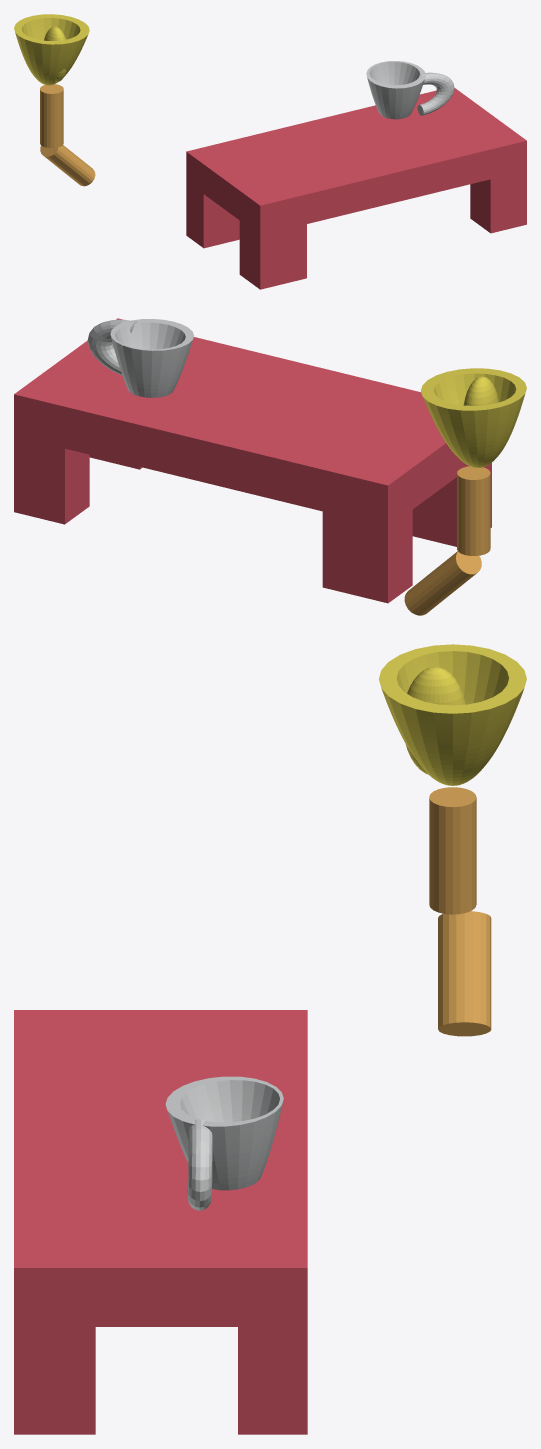
File: 3D shape cup and lamp.glb
3 views of the same model, one above another, from view 1: azimuth 30°, elevation 25°; view 2: azimuth 150°, elevation 25°; view 3: azimuth 270°, elevation 25° (orthographic). The views are drawn at different scales.
Visible parts, largest first — view 1: Mesh_Mesh_head_geo.001_lambert2SG.001; view 2: Mesh_Mesh_head_geo.001_lambert2SG.001; view 3: Mesh_Mesh_head_geo.001_lambert2SG.001.
Boxes of the visible parts, x1=… form: Mesh_Mesh_head_geo.001_lambert2SG.001: x1=14, y1=14, x2=526, y2=289; Mesh_Mesh_head_geo.001_lambert2SG.001: x1=14, y1=318, x2=526, y2=615; Mesh_Mesh_head_geo.001_lambert2SG.001: x1=14, y1=644, x2=526, y2=1434.
Size of the model in its own units: 153 by 76.99 by 86.52.
